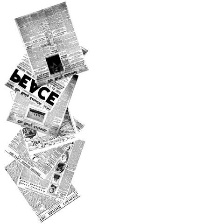news_paper: (11, 2, 89, 89), (2, 40, 88, 114), (4, 111, 88, 181), (3, 151, 81, 223), (8, 70, 82, 143), (8, 87, 81, 155), (16, 138, 89, 203)
